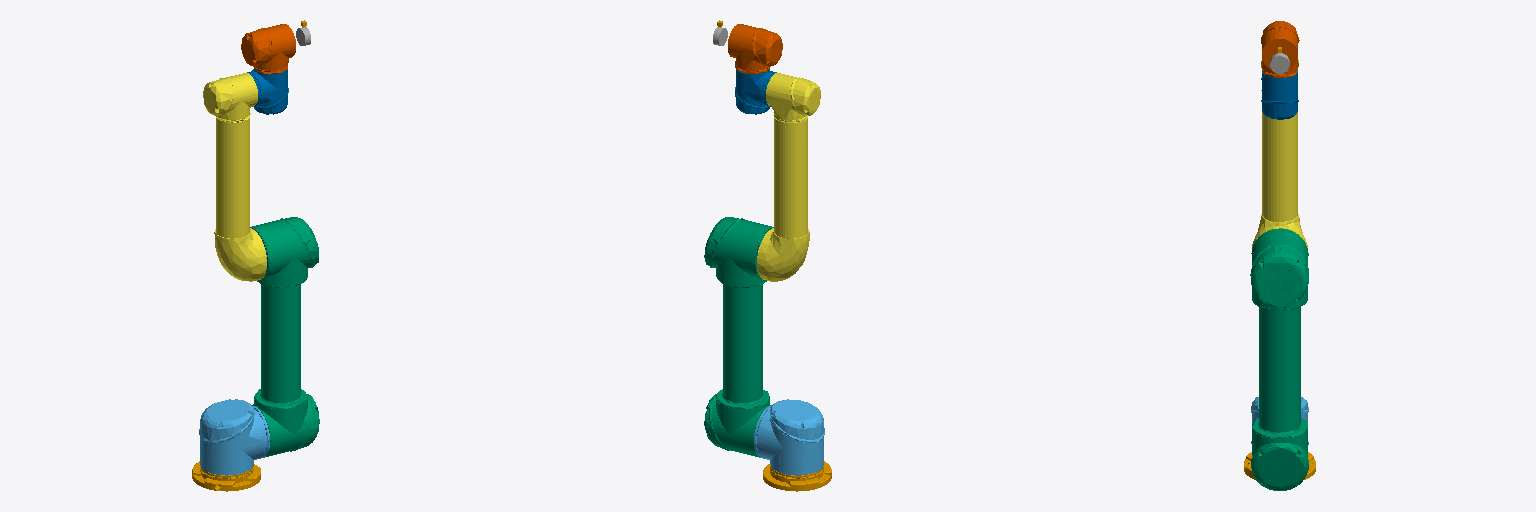
robot.urdf — ur5:
<?xml version="1.0"?>
<robot name="ur5">
  <link name="base_link">
    <visual>
      <geometry>
        <mesh filename="package://ur5/meshes/base_link.stl"/>
      </geometry>
    </visual>
    <collision>
      <geometry>
        <mesh filename="package://ur5/meshes/base_link.stl"/>
      </geometry>
    </collision>
  </link>
  <link name="shoulder_link">
    <visual>
      <geometry>
        <mesh filename="package://ur5/meshes/shoulder_link.stl"/>
      </geometry>
    </visual>
    <collision>
      <geometry>
        <mesh filename="package://ur5/meshes/shoulder_link.stl"/>
      </geometry>
    </collision>
  </link>
  <joint name="shoulder_pan_joint" type="revolute">
    <origin xyz="0 0 0.0099916" rpy="1.5708 1.5708 0"/>
    <parent link="base_link"/>
    <child link="shoulder_link"/>
    <axis xyz="1 0 0"/>
    <limit lower="-6.2832" upper="6.2832" effort="300" velocity="3"/>
  </joint>
  <link name="upper_arm_link">
    <visual>
      <geometry>
        <mesh filename="package://ur5/meshes/upper_arm_link.stl"/>
      </geometry>
    </visual>
    <collision>
      <geometry>
        <mesh filename="package://ur5/meshes/upper_arm_link.stl"/>
      </geometry>
    </collision>
  </link>
  <joint name="shoulder_lift_joint" type="revolute">
    <origin xyz="-0.080008 0.053821 0" rpy="0 0 0"/>
    <parent link="shoulder_link"/>
    <child link="upper_arm_link"/>
    <axis xyz="0 -1 0"/>
    <limit lower="-1.57" upper="1.57" effort="200" velocity="3"/>
  </joint>
  <link name="forearm_link">
    <visual>
      <geometry>
        <mesh filename="package://ur5/meshes/forearm_link.stl"/>
      </geometry>
    </visual>
    <collision>
      <geometry>
        <mesh filename="package://ur5/meshes/forearm_link.stl"/>
      </geometry>
    </collision>
  </link>
  <joint name="elbow_joint" type="revolute">
    <origin xyz="-0.425 0 0" rpy="0 0 0"/>
    <parent link="upper_arm_link"/>
    <child link="forearm_link"/>
    <axis xyz="0 1 0"/>
    <limit lower="-6.2832" upper="6.2832" effort="200" velocity="3"/>
  </joint>
  <link name="wrist_1_link">
    <visual>
      <geometry>
        <mesh filename="package://ur5/meshes/wrist_1_link.stl"/>
      </geometry>
    </visual>
    <collision>
      <geometry>
        <mesh filename="package://ur5/meshes/wrist_1_link.stl"/>
      </geometry>
    </collision>
  </link>
  <joint name="wrist_1_joint" type="revolute">
    <origin xyz="-0.39225 0 0" rpy="0 0 0"/>
    <parent link="forearm_link"/>
    <child link="wrist_1_link"/>
    <axis xyz="0 -1 0"/>
    <limit lower="-6.2832" upper="6.2832" effort="200" velocity="3"/>
  </joint>
  <link name="wrist_2_link">
    <visual>
      <geometry>
        <mesh filename="package://ur5/meshes/wrist_2_link.stl"/>
      </geometry>
    </visual>
    <collision>
      <geometry>
        <mesh filename="package://ur5/meshes/wrist_2_link.stl"/>
      </geometry>
    </collision>
  </link>
  <joint name="wrist_2_joint" type="revolute">
    <origin xyz="0 0.056149 0" rpy="0 0 0"/>
    <parent link="wrist_1_link"/>
    <child link="wrist_2_link"/>
    <axis xyz="1 0 0"/>
    <limit lower="-6.2832" upper="6.2832" effort="200" velocity="3"/>
  </joint>
  <link name="wrist_3_link">
    <visual>
      <geometry>
        <mesh filename="package://ur5/meshes/wrist_3_link.stl"/>
      </geometry>
    </visual>
    <collision>
      <geometry>
        <mesh filename="package://ur5/meshes/wrist_3_link.stl"/>
      </geometry>
    </collision>
  </link>
  <joint name="wrist_3_joint" type="revolute">
    <origin xyz="-0.09492 0.041547 0" rpy="3.1416 0 3.1416"/>
    <parent link="wrist_2_link"/>
    <child link="wrist_3_link"/>
    <axis xyz="0 -1 0"/>
    <limit lower="-6.2832" upper="6.2832" effort="100" velocity="3"/>
  </joint>
  <link name="vacuum_gripper1">
    <collision>
      <origin xyz="0 0 0" rpy="0 0 0"/>
      <geometry>
        <box size="0.0 0.0 0.0"/>
      </geometry>
    </collision>
    <gravity>0</gravity>
    <visual>
      <origin rpy="0 0 0" xyz="0 0 0"/>
      <geometry>
        <cylinder radius="0.02" length="0.015"/>
      </geometry>
    </visual>
  </link>
  <joint name="gripper_joint1" type="revolute">
    <axis xyz="1 0 0"/>
    <parent link="wrist_3_link"/>
    <child link="vacuum_gripper1"/>
    <origin rpy="1.570 0 0" xyz="0 0.04 0"/>
    <limit effort="50" velocity="50" lower="0" upper="0"/>
  </joint>
  <link name="camera_link">
    <collision>
      <origin xyz="0 0 0" rpy="0 0 0"/>
      <geometry>
        <box size="0.01 0.01 0.01"/>
      </geometry>
    </collision>
    <visual>
      <origin xyz="0 0 0" rpy="0 0 0"/>
      <geometry>
        <box size="0.01 0.01 0.01"/>
      </geometry>
    </visual>
  </link>
  <joint name="camera_joint" type="fixed">
    <axis xyz="0 1 0"/>
    <origin xyz="0.03 0.04 0" rpy="0 0 1.508"/>
    <parent link="wrist_3_link"/>
    <child link="camera_link"/>
  </joint>
</robot>

--- What the picture shows (computed from the rendered views, not written in the file) ---
3 views of the same robot in one strip: view 1: azimuth 30°, elevation 25°; view 2: azimuth 150°, elevation 25°; view 3: azimuth 270°, elevation 25° (orthographic).
Robot: ur5 — 9 links, 8 joints (7 revolute, 1 fixed); root link base_link; default pose: every joint at zero.
Links seen in each view (by area): view 1: upper_arm_link, forearm_link, shoulder_link, wrist_2_link, wrist_1_link, base_link; view 2: upper_arm_link, forearm_link, shoulder_link, wrist_2_link, wrist_1_link, base_link; view 3: upper_arm_link, forearm_link, wrist_2_link, wrist_1_link.
Boxes of the visible links, left/top/right/bottom form: upper_arm_link: left=250, top=217, right=319, bottom=457; forearm_link: left=203, top=73, right=266, bottom=281; shoulder_link: left=199, top=399, right=269, bottom=475; wrist_2_link: left=241, top=24, right=295, bottom=74; wrist_1_link: left=247, top=69, right=288, bottom=114; base_link: left=192, top=461, right=260, bottom=491; upper_arm_link: left=704, top=217, right=773, bottom=457; forearm_link: left=757, top=73, right=820, bottom=281; shoulder_link: left=754, top=399, right=824, bottom=475; wrist_2_link: left=728, top=24, right=782, bottom=73; wrist_1_link: left=735, top=69, right=776, bottom=114; base_link: left=763, top=461, right=831, bottom=491; upper_arm_link: left=1250, top=228, right=1308, bottom=490; forearm_link: left=1252, top=60, right=1307, bottom=247; wrist_2_link: left=1261, top=21, right=1299, bottom=77; wrist_1_link: left=1261, top=71, right=1298, bottom=119.
Size in the robot's own frame: 0.2833 by 0.149 by 1.04 metres.
6 mesh visuals loaded from 7 distinct referenced files (6 binary STL); not drawn: 1 (reference not matched to a file when rendering).